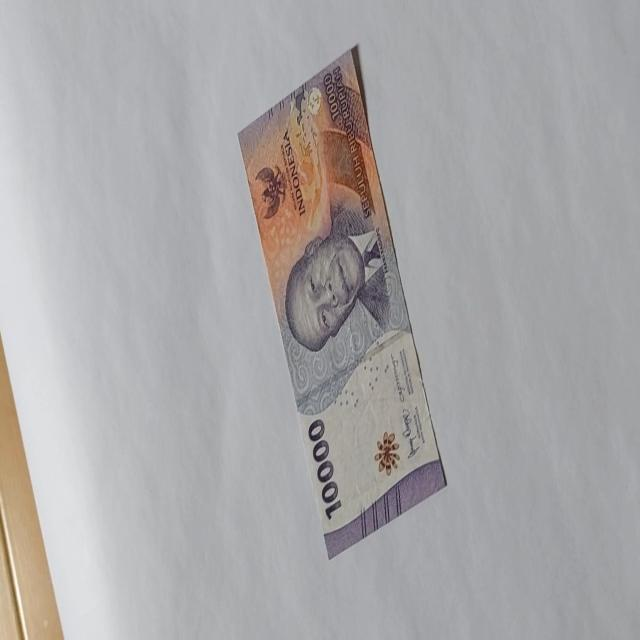sepuluh ribu rupiah: (237, 46, 448, 558)
